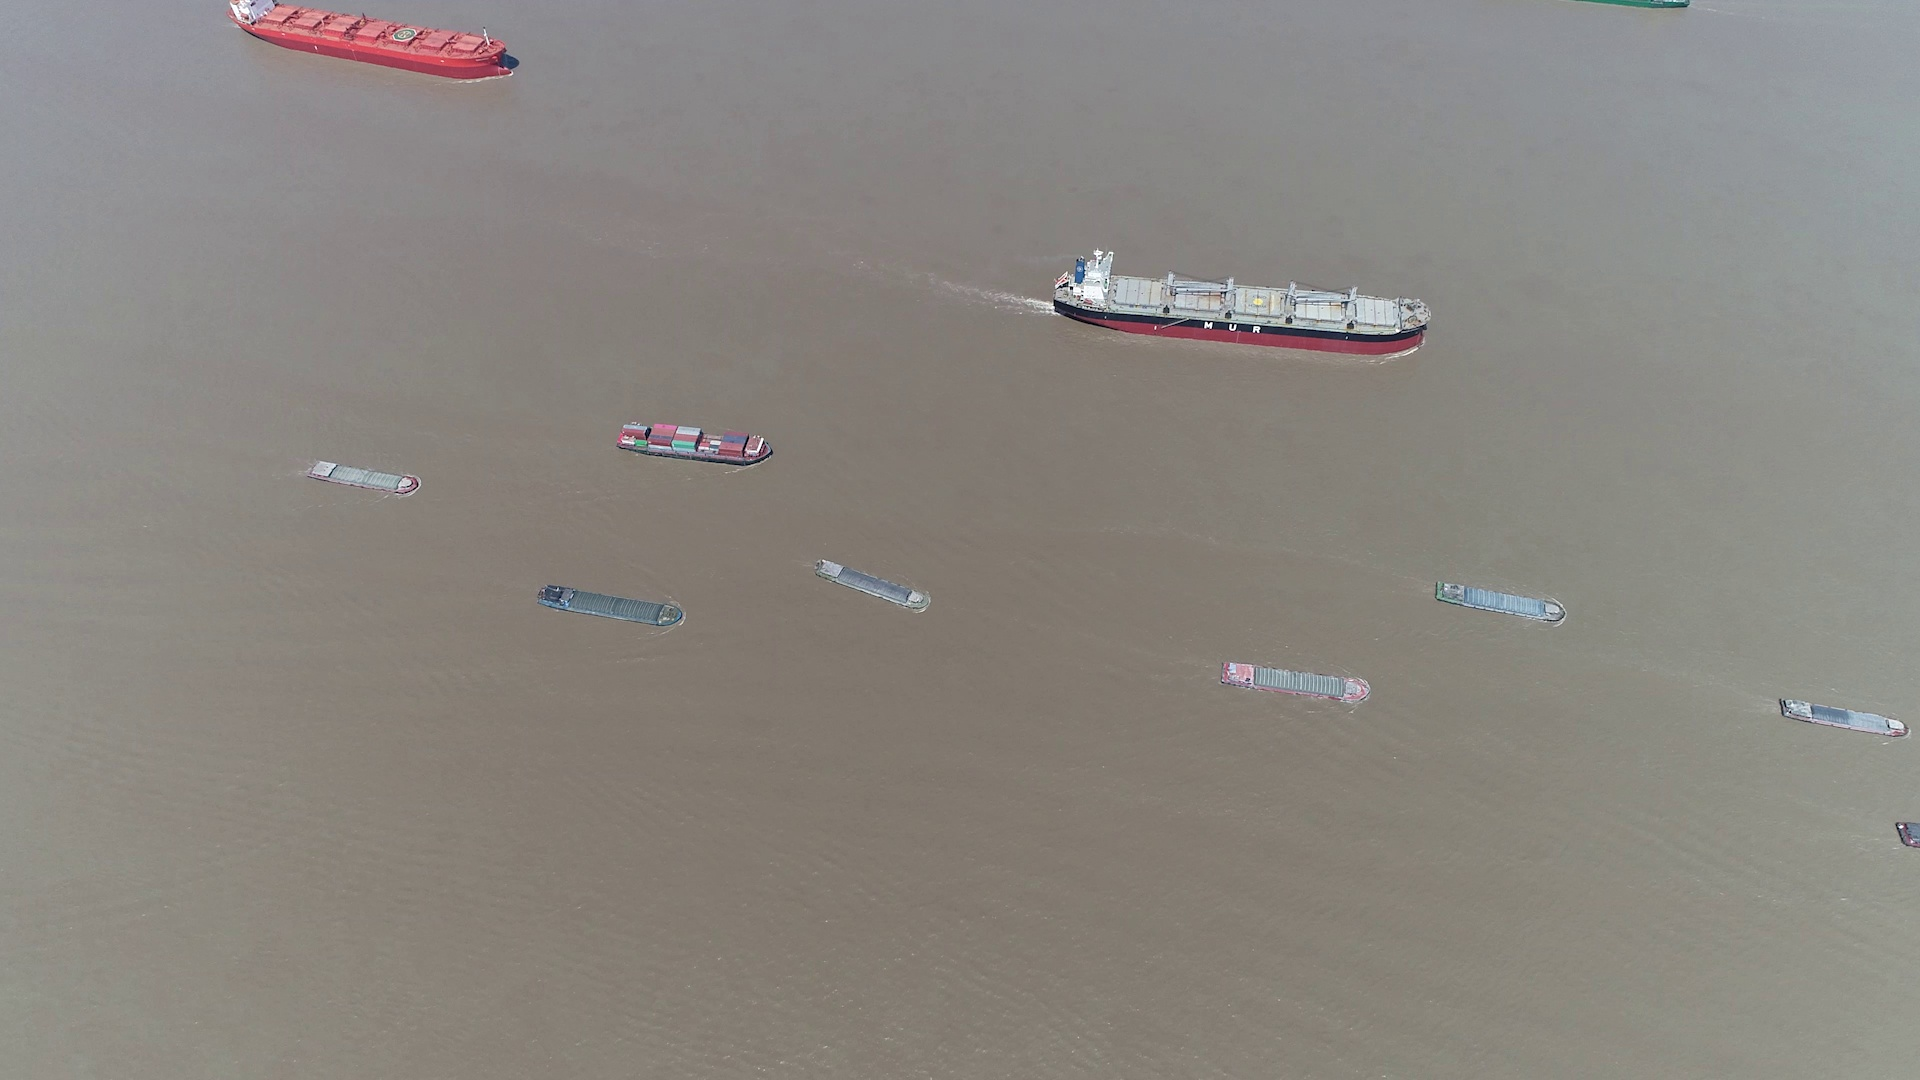ship: (1050, 255, 1433, 352), (228, 0, 520, 79), (617, 421, 774, 465), (537, 584, 686, 628), (1218, 661, 1371, 702), (815, 560, 931, 613), (1436, 580, 1568, 622), (1776, 698, 1907, 740), (309, 459, 419, 495), (1588, 0, 1691, 11), (1896, 822, 1920, 852)
